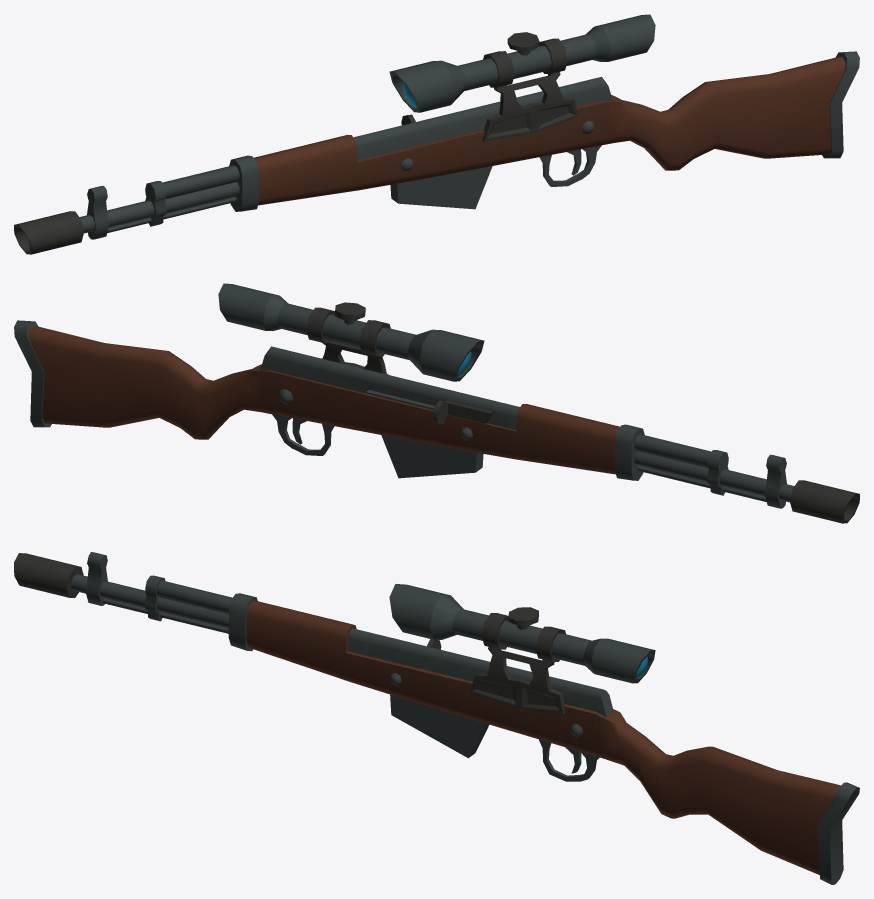
File: Sniper.glb
3 views of the same model, one above another, from view 1: azimuth 30°, elevation 25°; view 2: azimuth 150°, elevation 25°; view 3: azimuth 330°, elevation 25° (orthographic).
Parts seen in each view (by area): view 1: sniper_rifle; view 2: sniper_rifle; view 3: sniper_rifle.
Part boxes in pixels (bbox=[...]): sniper_rifle: bbox=[14, 14, 859, 254]; sniper_rifle: bbox=[14, 283, 859, 523]; sniper_rifle: bbox=[14, 552, 859, 884].
Size of the model in its own units: 1.13 by 0.2519 by 0.0703.
1 material, 1 textured.
